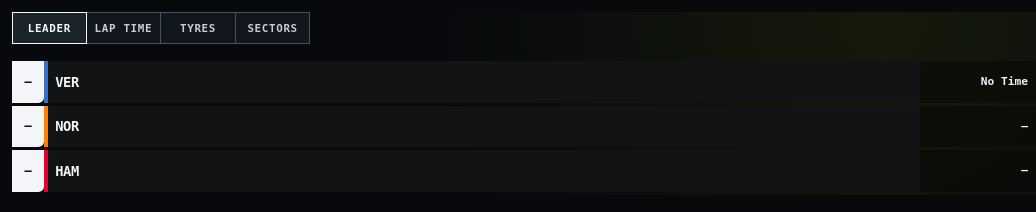
it: renders qualifying classification with only live-state metric controls
Expected: the cell "No Time" is shown, [920,61,1035,103]
Expected: the 3rd cell "—" is shown, [920,106,1035,147]
Click the button "Lap time": coordinates (124, 28) [87,12,161,44]
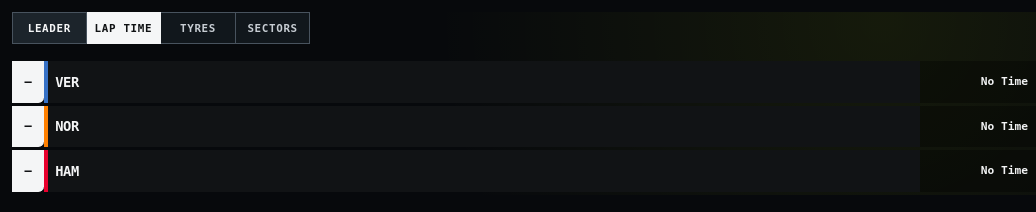
Expected: the 1st cell "No Time" is shown, [920,61,1035,103]
Expected: the 2nd cell "No Time" is shown, [920,106,1035,147]
Click the button "Tyres": coordinates (198, 28) [161,12,236,44]
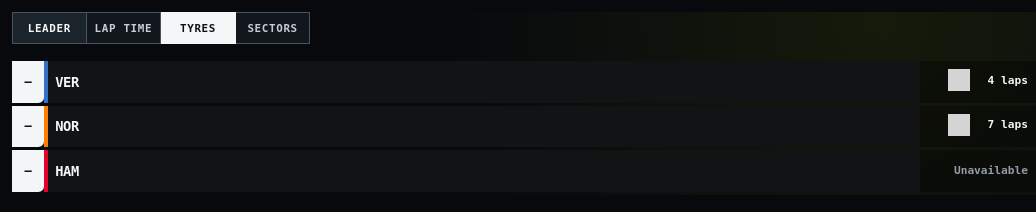
Expected: the element named "Soft tyre, 4 laps" is shown, [948,69,1028,92]
Expected: the element named "Medium tyre, 7 laps" is shown, [948,114,1028,136]
